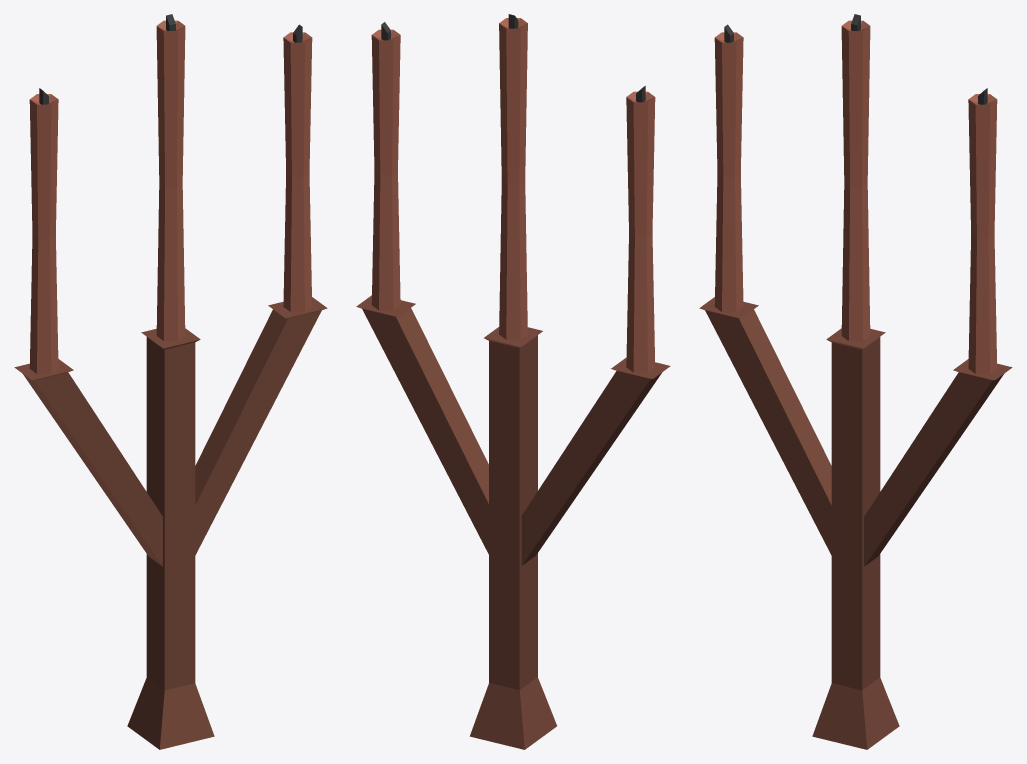
Rendered from Candle_5_Red.fbx.
3 renders of one model, left to right at view 1: azimuth 30°, elevation 25°; view 2: azimuth 150°, elevation 25°; view 3: azimuth 330°, elevation 25°, orthographic.
Parts seen in each view (by area): view 1: Candle_5_Red_Part_1, Candle_5_Red_Part_2; view 2: Candle_5_Red_Part_1, Candle_5_Red_Part_2; view 3: Candle_5_Red_Part_1, Candle_5_Red_Part_2.
Boxes of the visible parts, x1,y1,x2,y2 form: Candle_5_Red_Part_1: [14, 297, 327, 749]; Candle_5_Red_Part_2: [29, 20, 312, 373]; Candle_5_Red_Part_1: [356, 295, 670, 749]; Candle_5_Red_Part_2: [371, 18, 655, 372]; Candle_5_Red_Part_1: [699, 297, 1012, 749]; Candle_5_Red_Part_2: [714, 20, 997, 373].
Bounding box in the file's own units: 23.69 × 54.75 × 4.5.
